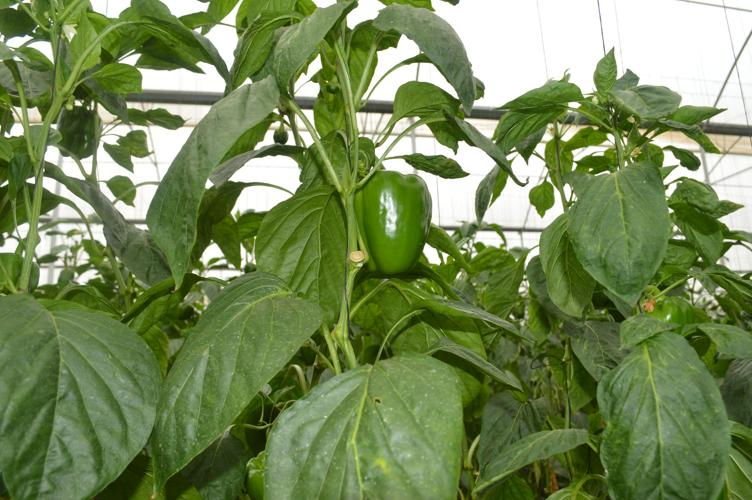BellPepper: (344, 173, 432, 283)
